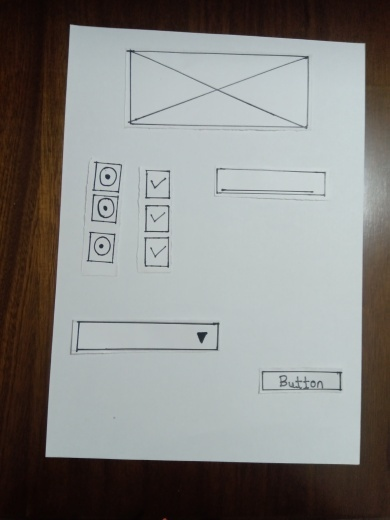button: (262, 370, 343, 390)
checkbox: (139, 205, 170, 235), (143, 173, 169, 199), (143, 240, 169, 266)
dropdown: (75, 320, 219, 351)
img: (128, 49, 306, 127)
radio: (92, 192, 117, 223), (92, 160, 115, 190), (88, 233, 111, 263)
text: (212, 169, 324, 200)
